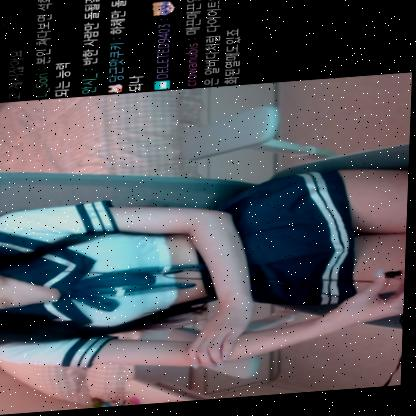streamer: (0, 171, 410, 385)
